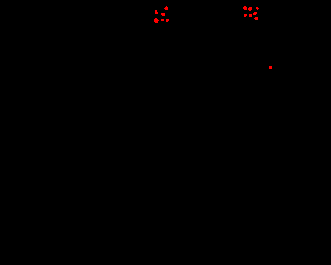Target: (154, 18, 159, 23), (164, 6, 168, 10), (243, 6, 247, 10), (248, 7, 252, 11), (155, 10, 158, 14), (253, 12, 257, 15), (161, 13, 165, 16), (254, 17, 258, 20), (256, 7, 259, 10), (244, 14, 247, 17), (249, 14, 252, 17), (166, 19, 169, 22), (269, 66, 272, 69), (161, 19, 164, 21)
